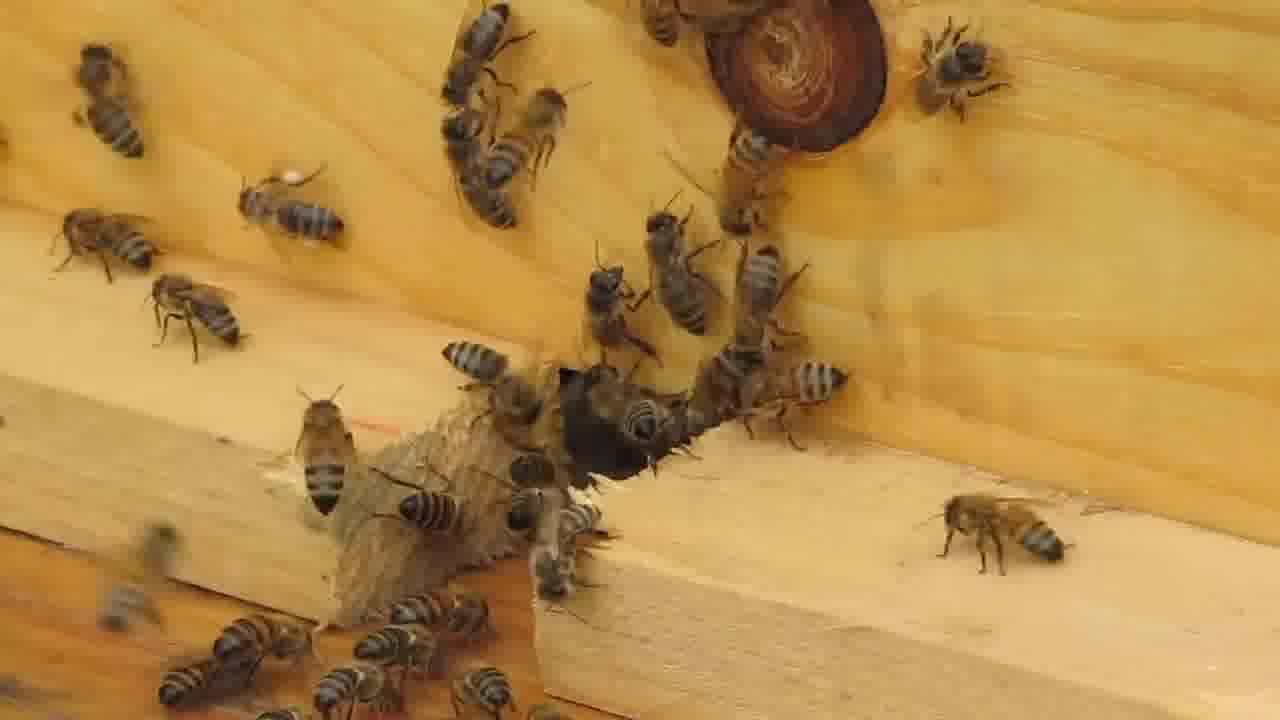pollen: (227, 159, 347, 253)
